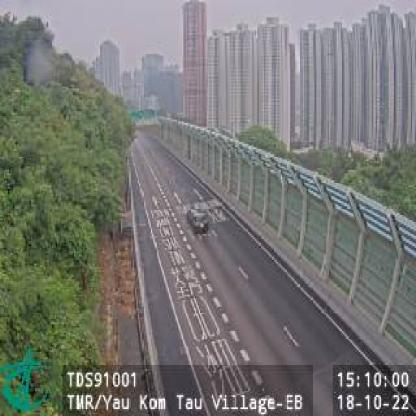Car: (188, 202, 209, 233)
